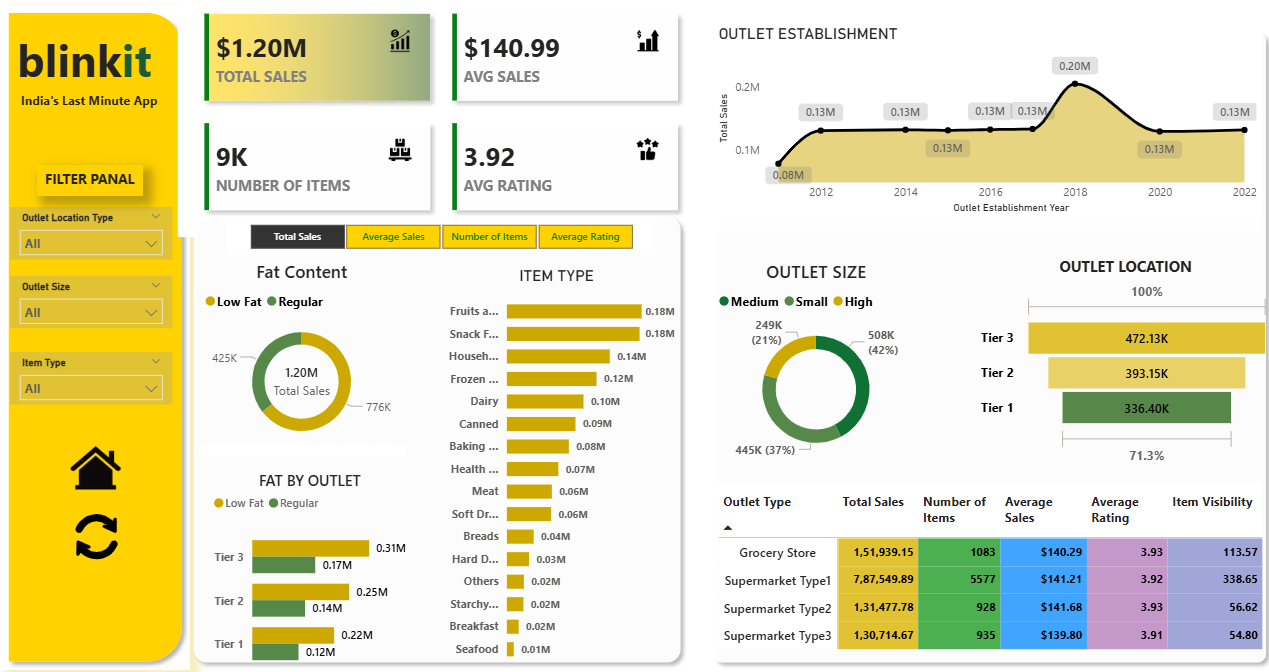

What the dashboard file says about the page in this screenshot:
{"tool":"powerbi","page":{"name":"blinkit_Db","canvas":[1400,800],"ordinal":0},"visuals":[{"type":"shape","box":[23.6,19.4,205.6,719.4],"z":0},{"type":"textbox","box":[19.4,40.3,190.3,75],"z":1000},{"type":"textbox","box":[29.2,108.3,179.2,37.5],"z":2000},{"type":"cardVisual","fields":{"Data":["BlinkIT Grocery Data.Total Sales","BlinkIT Grocery Data.Average Sales","BlinkIT Grocery Data.Number of Items","BlinkIT Grocery Data.Average Rating"]},"box":[215,0,570,270],"z":3000},{"type":"shape","box":[223.6,238.9,544.4,500],"z":4000},{"type":"donutChart","title":" Fat Content","fields":{"Y":["BlinkIT Grocery Data.Total Sales"],"Category":["BlinkIT Grocery Data.Item Fat Content"]},"box":[238.9,294.4,219.4,209.7],"z":5000},{"type":"slicer","fields":{"Values":["Matrics.Matrics"]},"box":[267.9,250.6,463,39.5],"z":6000},{"type":"cardVisual","fields":{"Data":["BlinkIT Grocery Data.Total Sales"]},"box":[300,400,98.6,51.4],"z":7000},{"type":"clusteredBarChart","title":"FAT BY OUTLET","fields":{"Y":["BlinkIT Grocery Data.Total Sales"],"Series":["BlinkIT Grocery Data.Item Fat Content"],"Category":["BlinkIT Grocery Data.Outlet Location Type"]},"box":[248.6,522.2,218.1,231.9],"z":7001},{"type":"shape","box":[237.5,494.2,223.3,12.5],"z":7002},{"type":"shape","box":[460.5,290.1,12.3,439.5],"z":7004},{"type":"barChart","title":"ITEM TYPE","fields":{"Category":["BlinkIT Grocery Data.Item Type"],"Y":["BlinkIT Grocery Data.Total Sales"]},"box":[491.7,301.4,265.3,437.5],"z":7005},{"type":"shape","box":[784.7,40.3,615.3,698.6],"z":7006},{"type":"lineChart","title":"OUTLET ESTABLISHMENT","fields":{"Y":["BlinkIT Grocery Data.Total Sales"],"Category":["BlinkIT Grocery Data.Outlet Establishment Year"]},"box":[794.4,40.3,591.7,209.7],"z":7007},{"type":"shape","box":[794.4,251.4,591.7,12.5],"z":7008},{"type":"donutChart","title":"OUTLET SIZE","fields":{"Y":["BlinkIT Grocery Data.Total Sales"],"Category":["BlinkIT Grocery Data.Outlet Size"]},"box":[794.4,294.4,220.8,226.4],"z":7009},{"type":"funnel","title":"OUTLET LOCATION","fields":{"Y":["BlinkIT Grocery Data.Total Sales"],"Category":["BlinkIT Grocery Data.Outlet Location Type"]},"box":[1077.8,290.3,322.2,231.9],"z":7010},{"type":"shape","box":[1033.3,256.9,12.5,243.1],"z":7011},{"type":"pivotTable","fields":{"Rows":["BlinkIT Grocery Data.Outlet Type"],"Values":["BlinkIT Grocery Data.Total Sales","BlinkIT Grocery Data.Number of Items","BlinkIT Grocery Data.Average Sales","BlinkIT Grocery Data.Average Rating","Sum(BlinkIT Grocery Data.Item Visibility)"]},"box":[794.4,534.7,605.6,194.4],"z":7012},{"type":"shape","box":[794.4,534.7,591.7,12.5],"z":7013},{"type":"slicer","fields":{"Values":["BlinkIT Grocery Data.Outlet Location Type"]},"box":[33.3,237.5,175,56.9],"z":7014},{"type":"slicer","fields":{"Values":["BlinkIT Grocery Data.Outlet Size"]},"box":[33.3,312.5,175,56.9],"z":7015},{"type":"slicer","fields":{"Values":["BlinkIT Grocery Data.Item Type"]},"box":[33.3,394.4,175,56.9],"z":7016},{"type":"textbox","box":[62.5,191.7,115.3,34.7],"z":7017},{"type":"image","box":[102.8,559.7,48.6,69.4],"z":7018},{"type":"image","box":[83.3,481.9,86.1,77.8],"z":7019}]}

Visuals, with their boxes on the page's 1400x800 design canvas (x1, y1, x2, y2). These are canvas units, not pixel positions in the 1269x672 screenshot, which may show the page scaled, cropped or inside an application window:
shape: (24,19,229,739)
textbox: (19,40,210,115)
textbox: (29,108,208,146)
cardVisual - BlinkIT Grocery Data.Total Sales x BlinkIT Grocery Data.Average Sales: (215,0,785,270)
shape: (224,239,768,739)
" Fat Content" donutChart: (239,294,458,504)
slicer - Matrics.Matrics: (268,251,731,290)
cardVisual - BlinkIT Grocery Data.Total Sales: (300,400,399,451)
"FAT BY OUTLET" clusteredBarChart: (249,522,467,754)
shape: (238,494,461,507)
shape: (460,290,473,730)
"ITEM TYPE" barChart: (492,301,757,739)
shape: (785,40,1400,739)
"OUTLET ESTABLISHMENT" lineChart: (794,40,1386,250)
shape: (794,251,1386,264)
"OUTLET SIZE" donutChart: (794,294,1015,521)
"OUTLET LOCATION" funnel: (1078,290,1400,522)
shape: (1033,257,1046,500)
pivotTable - BlinkIT Grocery Data.Outlet Type x BlinkIT Grocery Data.Total Sales: (794,535,1400,729)
shape: (794,535,1386,547)
slicer - BlinkIT Grocery Data.Outlet Location Type: (33,238,208,294)
slicer - BlinkIT Grocery Data.Outlet Size: (33,312,208,369)
slicer - BlinkIT Grocery Data.Item Type: (33,394,208,451)
textbox: (62,192,178,226)
image: (103,560,151,629)
image: (83,482,169,560)
